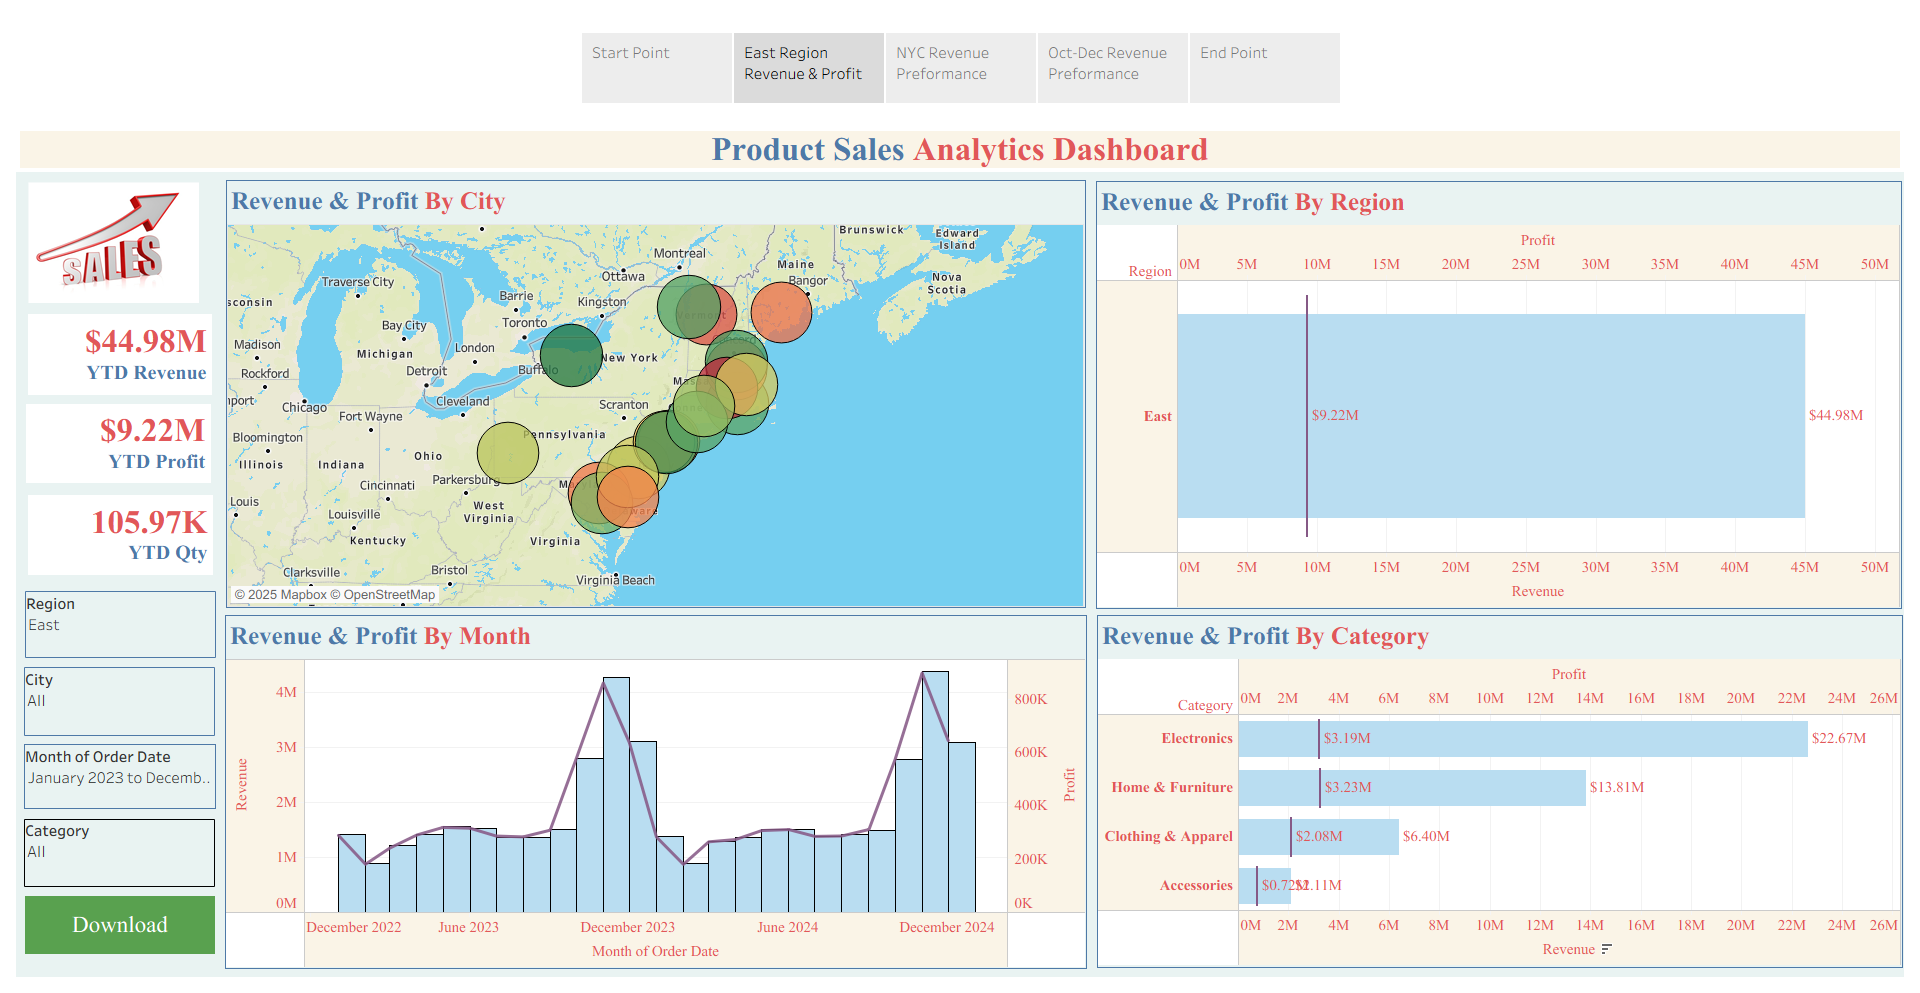

This screenshot's page, from the dashboard's own definition file:
{"tool":"tableau","page":{"name":"Dashboard","canvas":[1000,1000],"units":"permille","ordinal":0},"visuals":[{"type":"title","box":[4.8,10,990.3,56.2]},{"type":"worksheet","title":"City_Wise","mark":"Automatic","box":[114.7,69.9,451.4,494.4]},{"type":"worksheet","title":" Region_Wise","mark":"Automatic","rows":["Region"],"cols":["Revenue","Profit"],"box":[571.5,71.2,423.1,494.4]},{"type":"image","param":"Image/sales.jpg","box":[10.3,72.4,96.6,139.8]},{"type":"worksheet","title":"Revenue_Card","mark":"Automatic","box":[10.3,224.7,96,92.4]},{"type":"worksheet","title":"Profit_Card","mark":"Automatic","box":[9.7,329.6,96.6,89.9]},{"type":"worksheet","title":"Qty_Card","mark":"Automatic","box":[10.3,434.5,96.6,91.1]},{"type":"filter","title":" Region_Wise","param":"[federated.161l2w40rhty5k10ykqs002c49i8].[none:Region:nk]","box":[9.1,545.6,100.2,77.4]},{"type":"worksheet","title":"Month_Wise","mark":"Bar","rows":["Revenue","Profit"],"cols":["Order_Date"],"box":[114.1,573,452.6,408.2]},{"type":"worksheet","title":"Category_Wise","mark":"GanttBar","rows":["Category"],"cols":["Revenue","Profit"],"box":[572.1,573,423.1,407]},{"type":"filter","title":"City_Wise","param":"[federated.161l2w40rhty5k10ykqs002c49i8].[none:City:nk]","box":[8.4,633,100.2,79.9]},{"type":"filter","title":"Month_Wise","param":"[federated.161l2w40rhty5k10ykqs002c49i8].[tmn:Order_Date:qk]","box":[8.4,721.6,100.8,74.9]},{"type":"filter","title":"Category_Wise","param":"[federated.161l2w40rhty5k10ykqs002c49i8].[none:Category:nk]","box":[8.4,807.7,100.2,78.7]},{"type":"dashboard-object","box":[9.1,897.6,99.6,66.2]}]}

Visuals, with their boxes on the dashboard's canvas, which has no fixed pixel size, in thousandths of its width and height (x1, y1, x2, y2). These are canvas units, not pixel positions in the 1920x993 screenshot, which may show the page scaled, cropped or inside an application window:
title: box(5, 10, 995, 66)
"City_Wise" worksheet: box(115, 70, 566, 564)
" Region_Wise" worksheet: box(572, 71, 995, 566)
image: box(10, 72, 107, 212)
"Revenue_Card" worksheet: box(10, 225, 106, 317)
"Profit_Card" worksheet: box(10, 330, 106, 420)
"Qty_Card" worksheet: box(10, 434, 107, 526)
" Region_Wise" filter: box(9, 546, 109, 623)
"Month_Wise" worksheet (Bar marks): box(114, 573, 567, 981)
"Category_Wise" worksheet (GanttBar marks): box(572, 573, 995, 980)
"City_Wise" filter: box(8, 633, 109, 713)
"Month_Wise" filter: box(8, 722, 109, 796)
"Category_Wise" filter: box(8, 808, 109, 886)
dashboard-object: box(9, 898, 109, 964)
